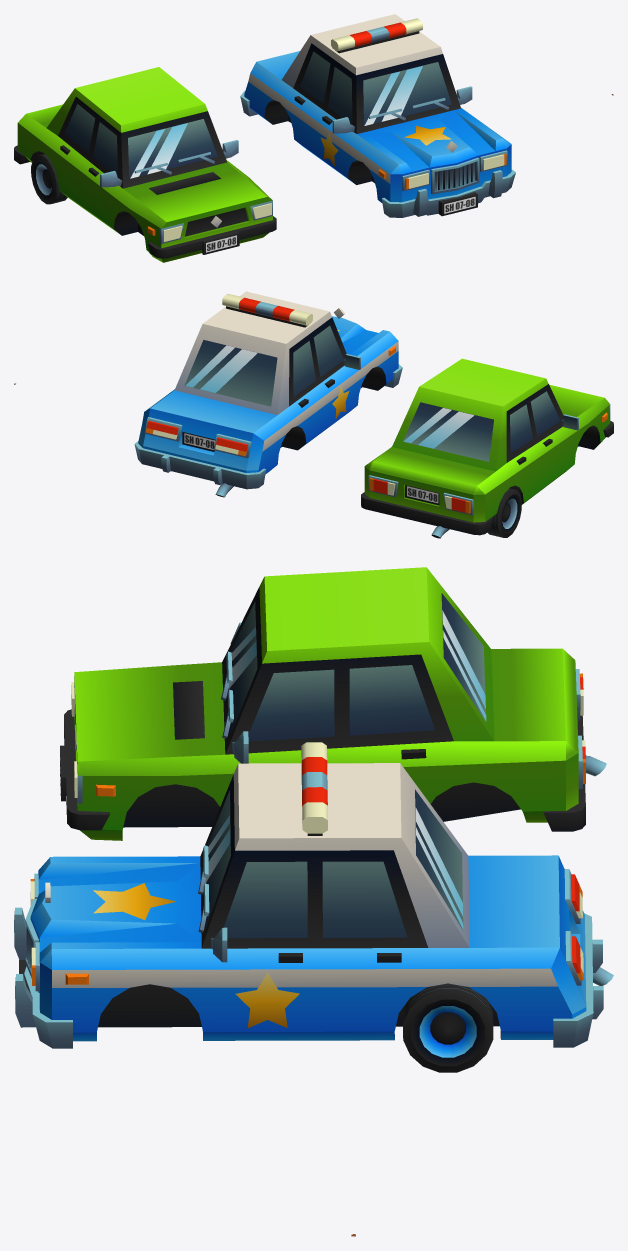
File: lowPolyCar1.fbx
3 renders of one model, top to bottom at view 1: azimuth 30°, elevation 25°; view 2: azimuth 150°, elevation 25°; view 3: azimuth 270°, elevation 25°, orthographic. The views are drawn at different scales.
Visible parts, largest first — view 1: SHTV_Model_Car_Police_SHTV_Material_Cars_Blue_0, SHTV_Model_Car_Sedan_SHTV_Material_Cars_Green_0, SHTV_Model_Wheel_Sedan_BR_SHTV_Material_Cars_Gray_0; view 2: SHTV_Model_Car_Police_SHTV_Material_Cars_Blue_0, SHTV_Model_Car_Sedan_SHTV_Material_Cars_Green_0, SHTV_Model_Wheel_Sedan_BR_SHTV_Material_Cars_Gray_0; view 3: SHTV_Model_Car_Police_SHTV_Material_Cars_Blue_0, SHTV_Model_Car_Sedan_SHTV_Material_Cars_Green_0, SHTV_Model_Wheel_Police_BL_SHTV_Material_Cars_Blue_0.
Boxes of the visible parts, left/top/right/bottom form: SHTV_Model_Car_Police_SHTV_Material_Cars_Blue_0: left=240, top=14, right=515, bottom=217; SHTV_Model_Car_Sedan_SHTV_Material_Cars_Green_0: left=14, top=67, right=276, bottom=262; SHTV_Model_Wheel_Sedan_BR_SHTV_Material_Cars_Gray_0: left=31, top=153, right=67, bottom=204; SHTV_Model_Car_Police_SHTV_Material_Cars_Blue_0: left=134, top=291, right=402, bottom=497; SHTV_Model_Car_Sedan_SHTV_Material_Cars_Green_0: left=361, top=358, right=613, bottom=538; SHTV_Model_Wheel_Sedan_BR_SHTV_Material_Cars_Gray_0: left=487, top=488, right=521, bottom=537; SHTV_Model_Car_Police_SHTV_Material_Cars_Blue_0: left=14, top=742, right=613, bottom=1048; SHTV_Model_Car_Sedan_SHTV_Material_Cars_Green_0: left=60, top=567, right=606, bottom=840; SHTV_Model_Wheel_Police_BL_SHTV_Material_Cars_Blue_0: left=403, top=983, right=493, bottom=1072.
Bounding box in the file's own units: 892 × 209 × 473.
